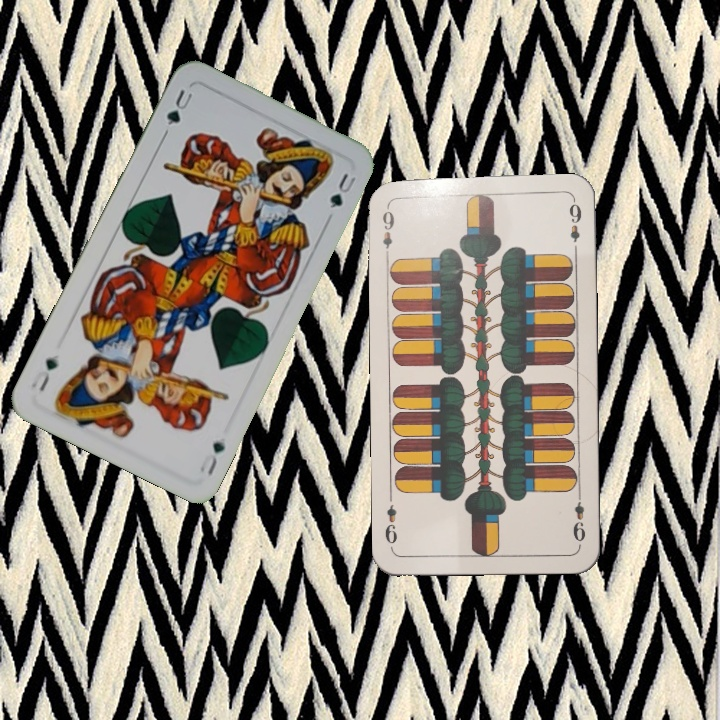E9: (568, 488, 588, 544), (379, 201, 397, 260)
GU: (162, 85, 196, 128), (195, 437, 228, 479)
